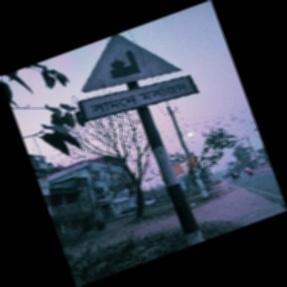Mosque in front: (77, 32, 197, 122)
